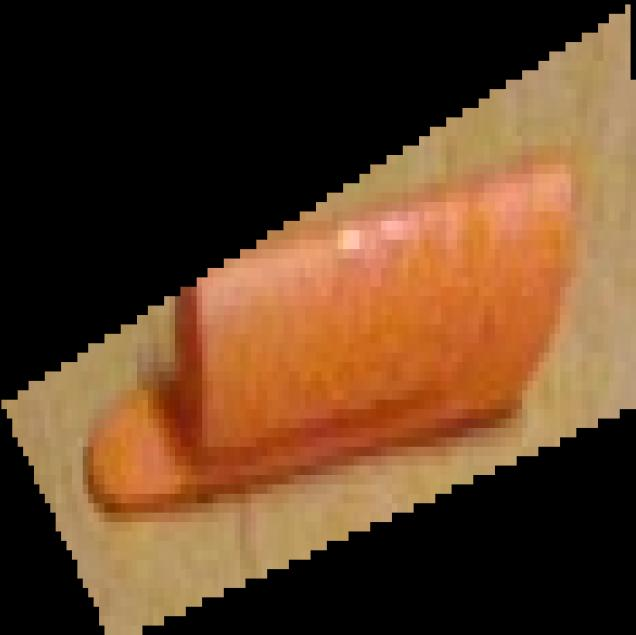orange: (0, 1, 636, 635)
